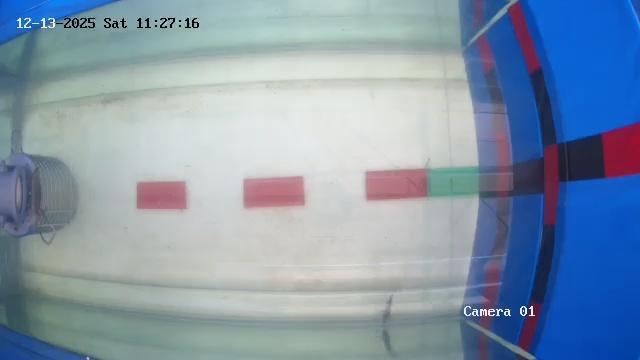fish: (375, 291, 403, 323)
